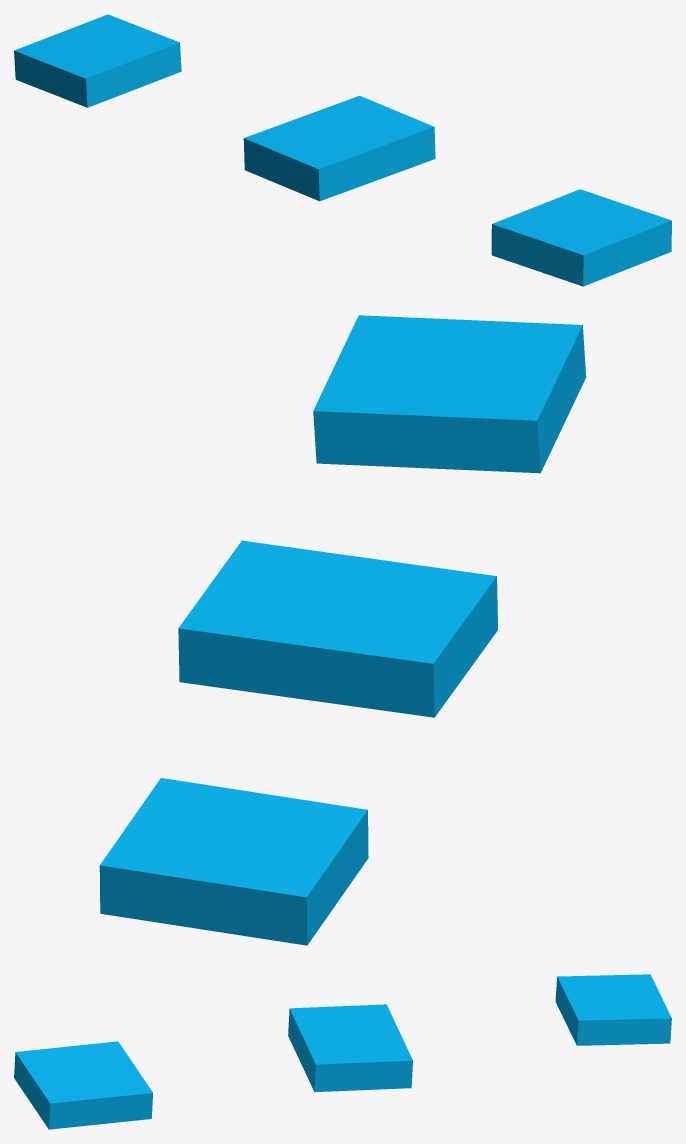
The model's file is RockBlockage_col.fbx.
3 views of the same model, one above another, from view 1: azimuth 30°, elevation 25°; view 2: azimuth 150°, elevation 25°; view 3: azimuth 270°, elevation 25° (orthographic). The views are drawn at different scales.
Visible parts, largest first — view 1: UBX_Rock_blockage_02, UBX_Rock_blockage_01, UBX_Rock_blockage_03; view 2: UBX_Rock_blockage_02, UBX_Rock_blockage_01, UBX_Rock_blockage_03; view 3: UBX_Rock_blockage_01, UBX_Rock_blockage_02, UBX_Rock_blockage_03.
Boxes of the visible parts, box(x1,y1,x2,y2) form: UBX_Rock_blockage_02: box(243, 95, 435, 201); UBX_Rock_blockage_01: box(491, 189, 671, 286); UBX_Rock_blockage_03: box(14, 14, 181, 107); UBX_Rock_blockage_02: box(178, 540, 497, 717); UBX_Rock_blockage_01: box(313, 315, 586, 473); UBX_Rock_blockage_03: box(99, 778, 368, 945); UBX_Rock_blockage_01: box(14, 1041, 152, 1129); UBX_Rock_blockage_02: box(288, 1004, 412, 1092); UBX_Rock_blockage_03: box(555, 974, 671, 1045).
Size of the model in its own units: 1434 by 176 by 2980.
